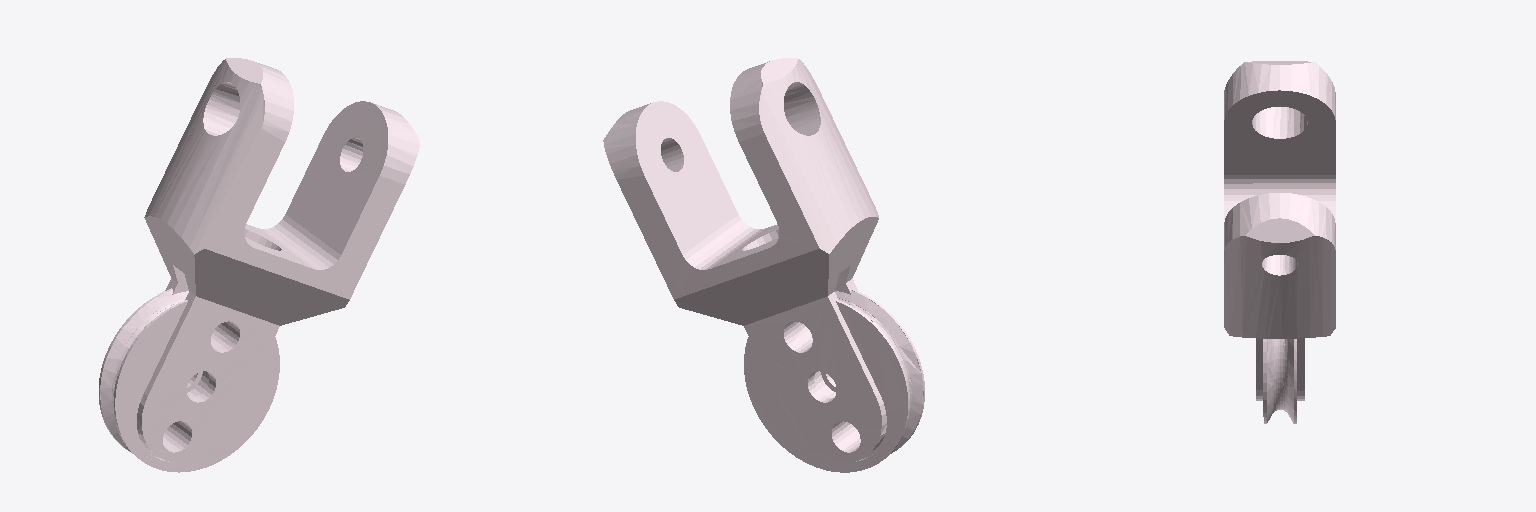
File: wrist_L.OBJ
3 views of the same model, side by side, from view 1: azimuth 30°, elevation 25°; view 2: azimuth 150°, elevation 25°; view 3: azimuth 270°, elevation 25° (orthographic).
Parts seen in each view (by area): view 1: /ambf/env/raven_2/wrist_L; view 2: /ambf/env/raven_2/wrist_L; view 3: /ambf/env/raven_2/wrist_L.
Boxes of the visible parts, x1=… form: /ambf/env/raven_2/wrist_L: x1=99, y1=58, x2=420, y2=472; /ambf/env/raven_2/wrist_L: x1=603, y1=58, x2=924, y2=472; /ambf/env/raven_2/wrist_L: x1=1224, y1=61, x2=1335, y2=423.
Size of the model in its own units: 0.0154 by 0.0189 by 0.005.